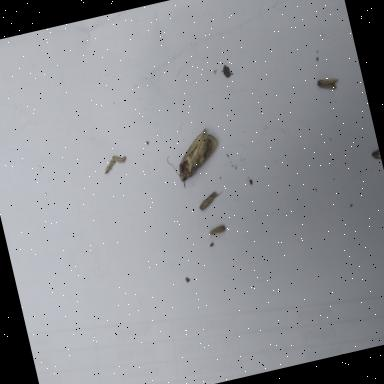abw: (162, 125, 226, 190)
pbw: (196, 190, 226, 212), (316, 76, 340, 92), (100, 158, 118, 174), (208, 225, 227, 236), (111, 153, 127, 165)
